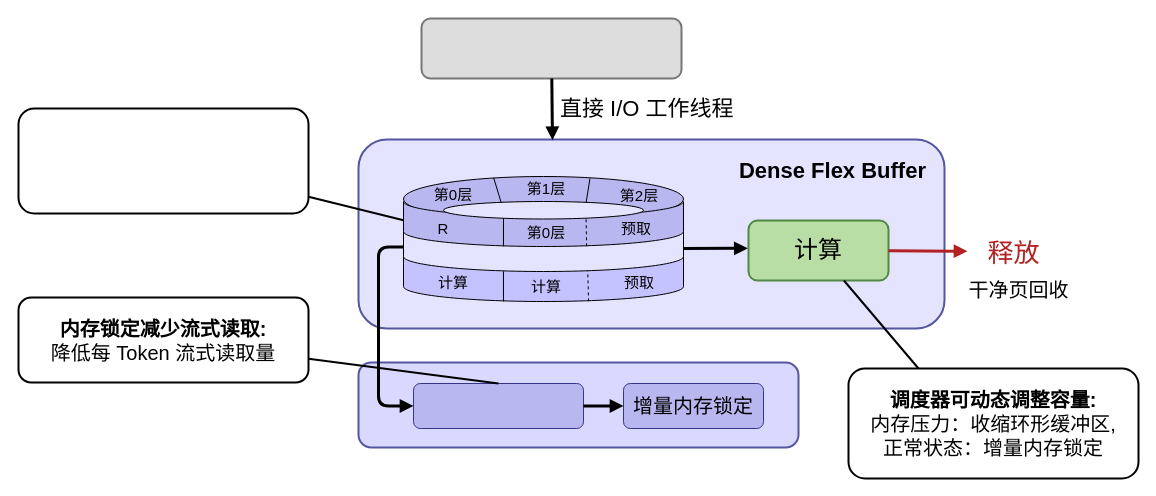
Some shapes in this 1156 by 496 pixel diagram are drawn without their labels. The shapes that lost their labels are listed below. From the top down, each one's centre as x and y in pixels, then its label:
pixel 551 48: GGUF 权重文件
pixel 163 160: 环形缓冲区控制内存峰值: RSS ≈ 环形缓冲区大小
pixel 498 405: 内存锁定缓冲区
